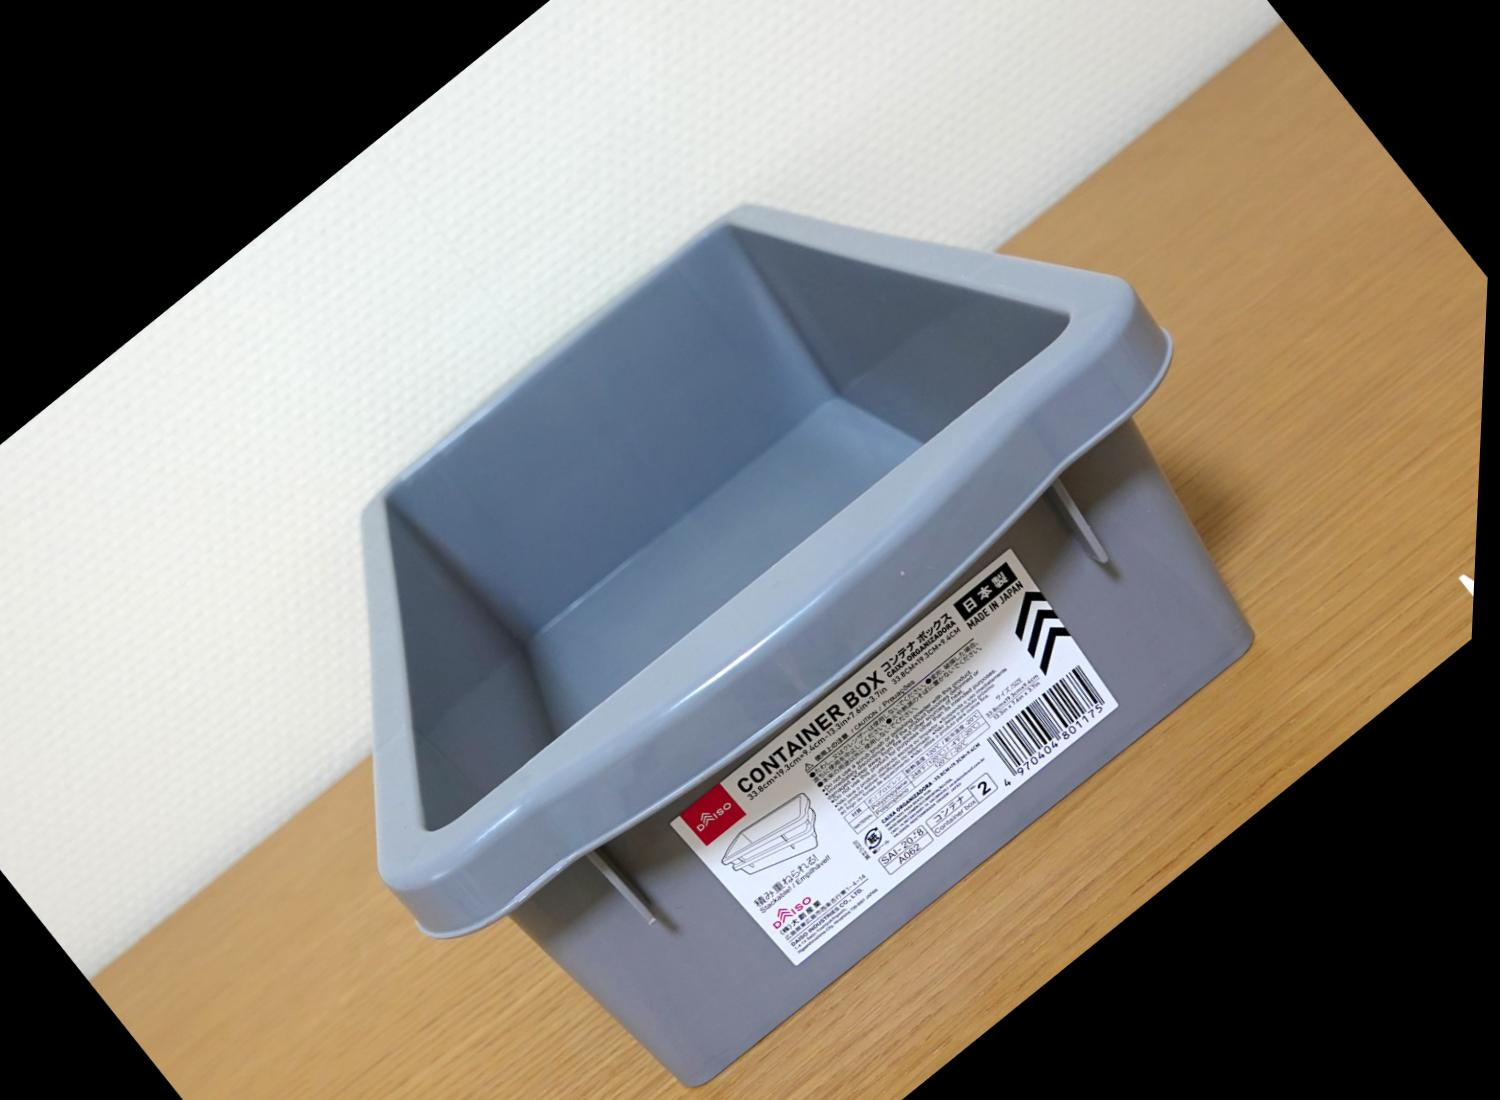plastic: (120, 435, 1193, 1092)
